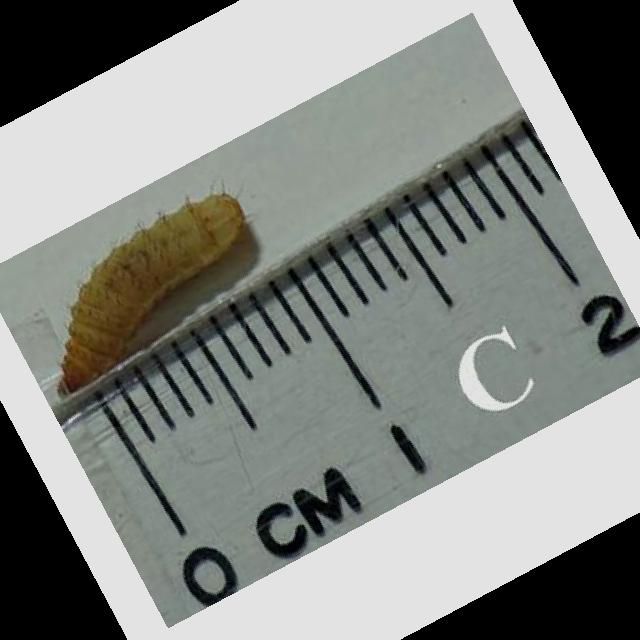Maggot: (51, 189, 244, 393)
